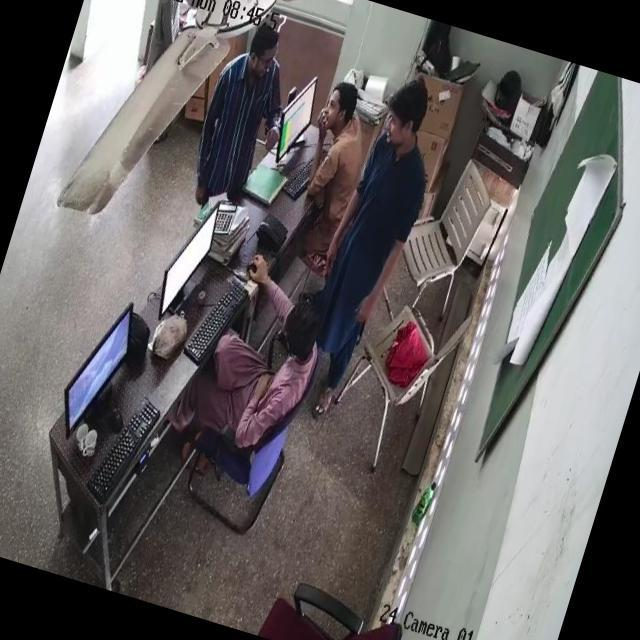person: (294, 82, 443, 420), (184, 274, 338, 466), (195, 22, 298, 194), (288, 73, 391, 240)
